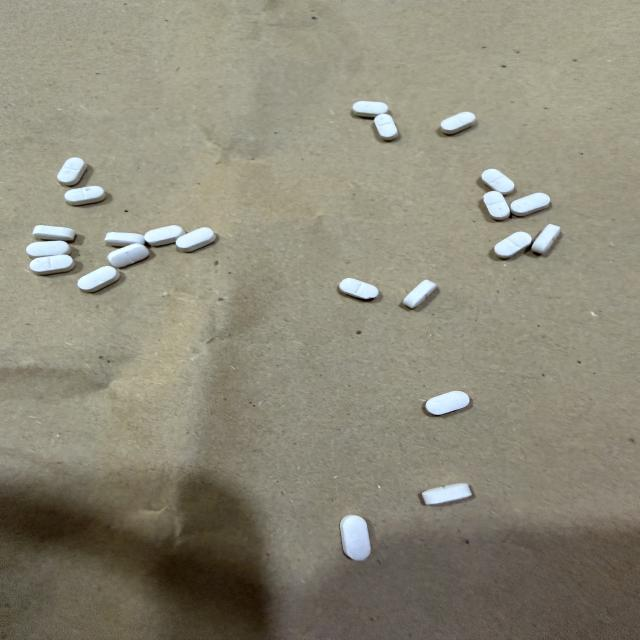pill: (340, 514, 370, 560), (422, 483, 472, 505), (78, 266, 120, 292), (426, 391, 469, 415), (510, 192, 551, 217), (495, 232, 532, 258), (108, 244, 149, 267), (176, 228, 215, 252), (403, 280, 436, 308), (144, 225, 185, 247), (30, 255, 74, 275), (339, 278, 378, 299), (532, 224, 560, 253), (482, 169, 514, 194), (57, 158, 86, 185), (483, 191, 510, 220), (65, 186, 105, 205), (441, 112, 475, 134), (27, 241, 70, 258), (33, 225, 76, 241), (374, 114, 398, 140), (352, 101, 388, 117), (105, 233, 144, 246)
